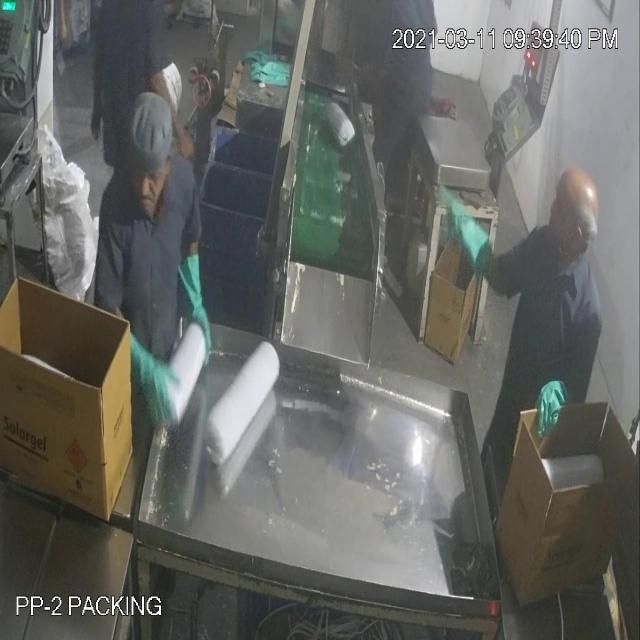Gloves: (40, 86, 550, 409)
